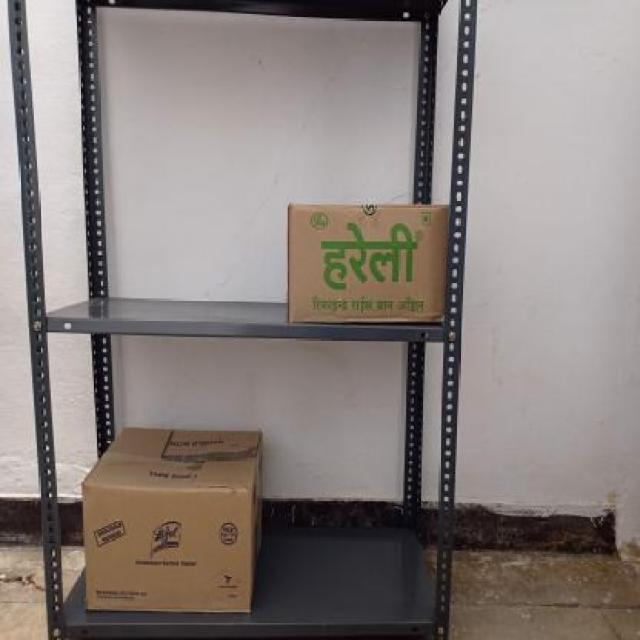box: (85, 488, 253, 612), (287, 204, 447, 322)
